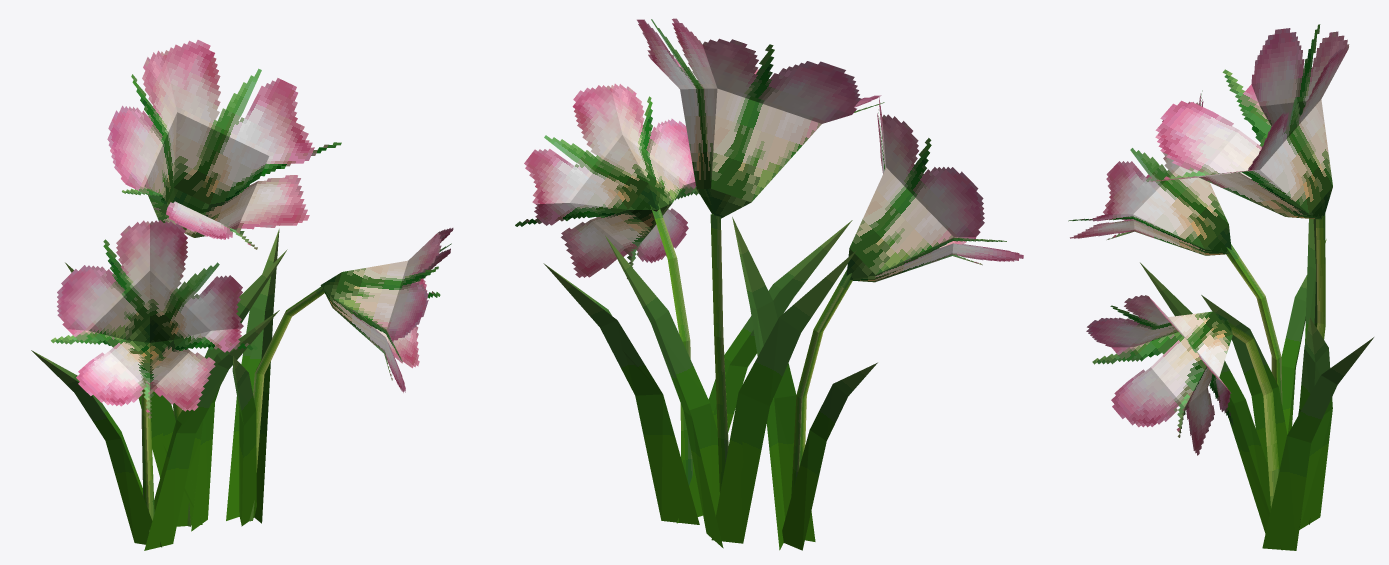
The model's file is pink_flower3.obj.
3 renders of one model, left to right at view 1: azimuth 30°, elevation 25°; view 2: azimuth 150°, elevation 25°; view 3: azimuth 270°, elevation 25°, orthographic. The views are drawn at different scales.
Visible parts, largest first — view 1: obj2; view 2: obj2; view 3: obj2.
Boxes of the visible parts, x1,y1,x2,y2 form: obj2: [31, 40, 453, 550]; obj2: [515, 18, 1023, 550]; obj2: [1068, 24, 1373, 550].
Bounding box in the file's own units: 19.51 × 19.81 × 11.25.
2 materials, 2 textured.
